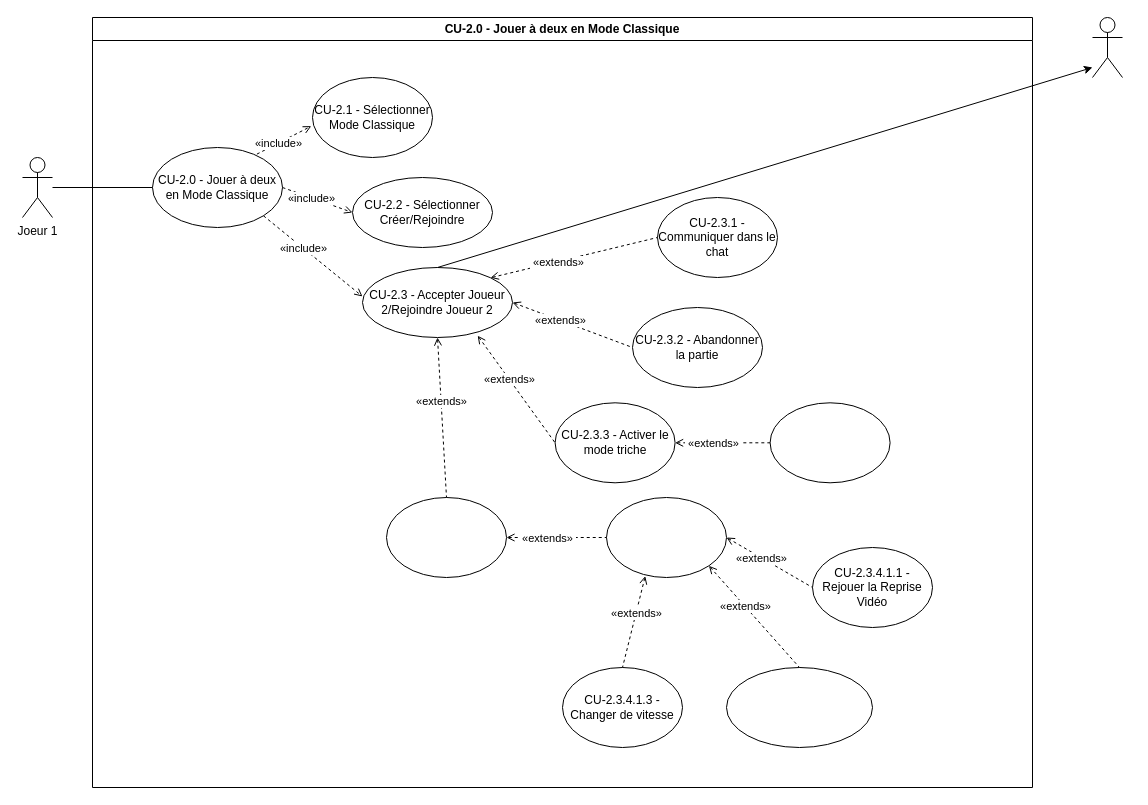
Image size: 1148x805. Some labels were removed from this diagram. Each missing label, with the centre of its shape:
CU-2.3.3.1 - Désactiver le mode triche: point (829, 442)
CU-2.3.4 - Finir la partie: point (446, 537)
CU-2.3.4.1 - Lancer la Reprise Vidéo: point (666, 537)
CU-2.3.4.1.2 - Mettre pause/Continuer la Reprise Vidéo: point (799, 707)
Joueur 2: point (1107, 47)
